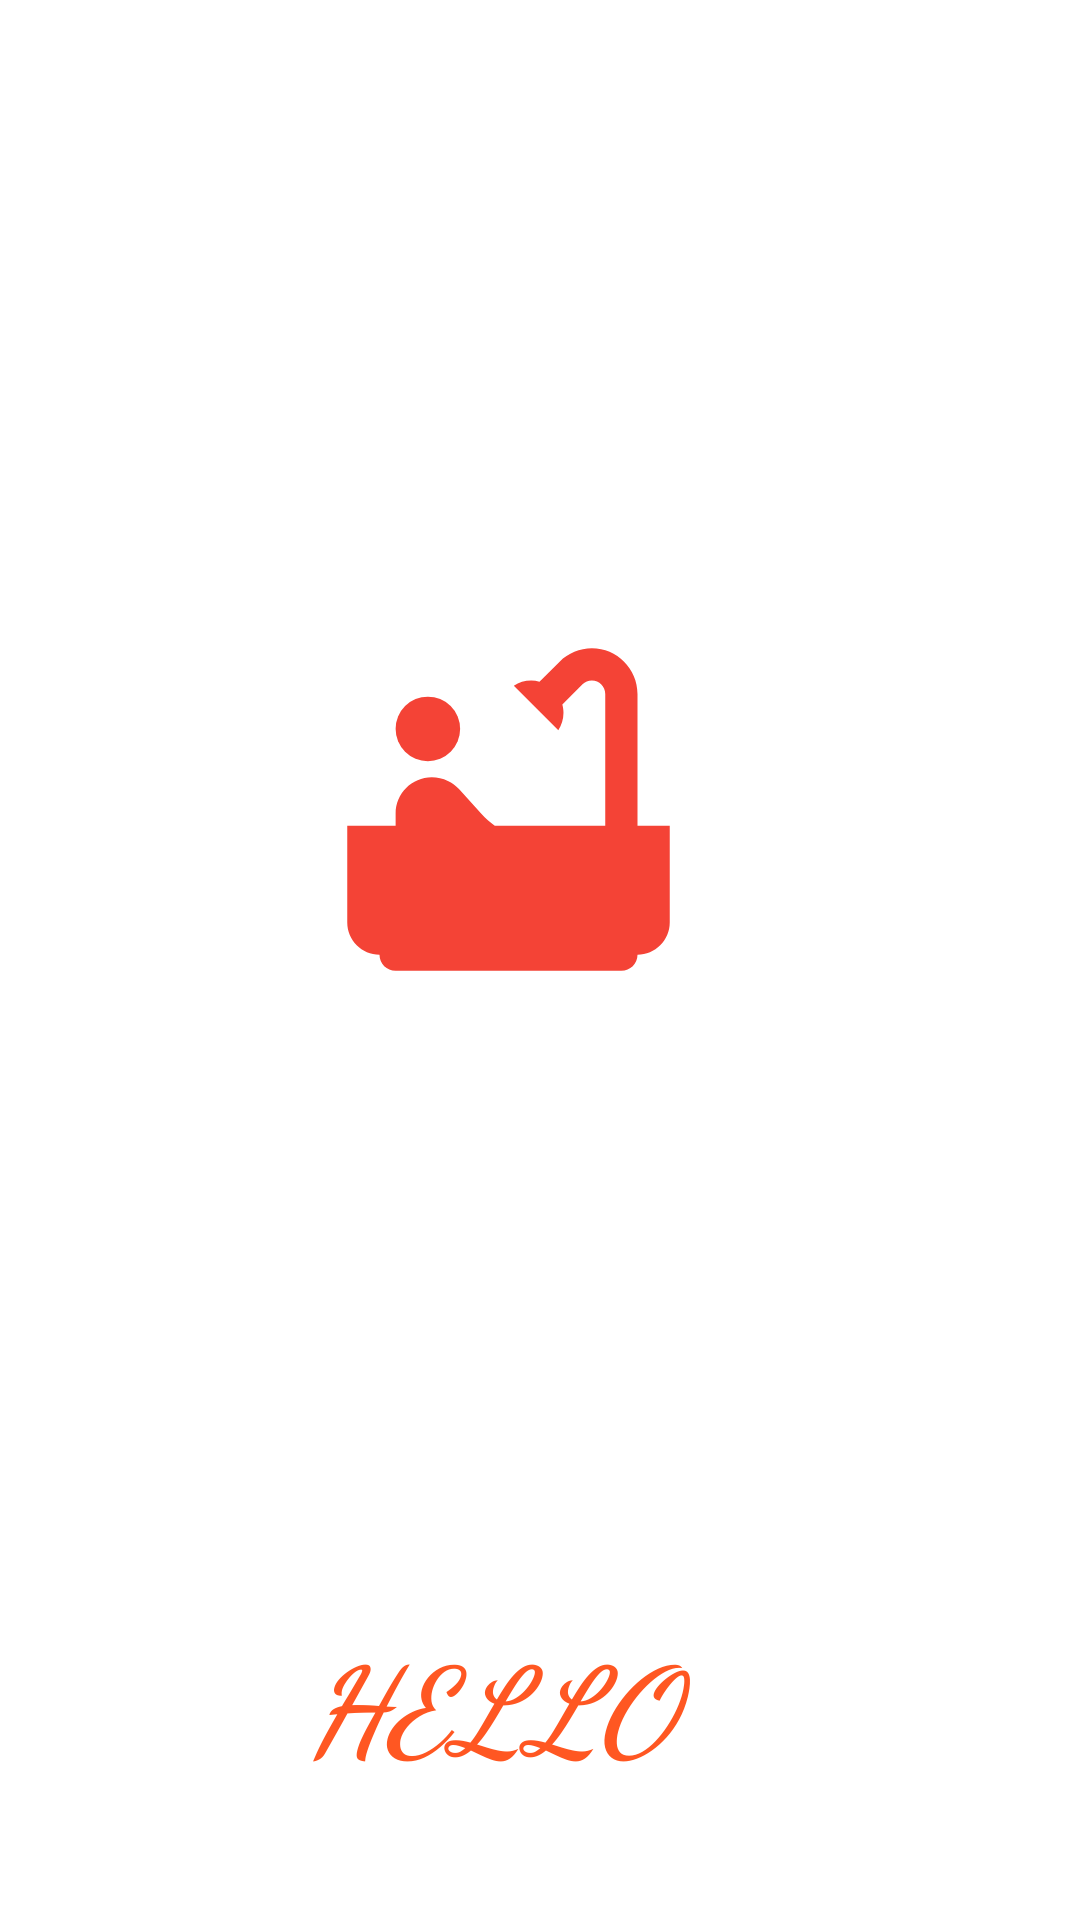

Icons on this 1080x1920 Android screen, each with its box as [x1, y1, x2, y2]:
bathtub: [347, 648, 670, 971]
